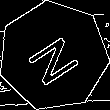N_NE: (21, 26, 86, 87)
